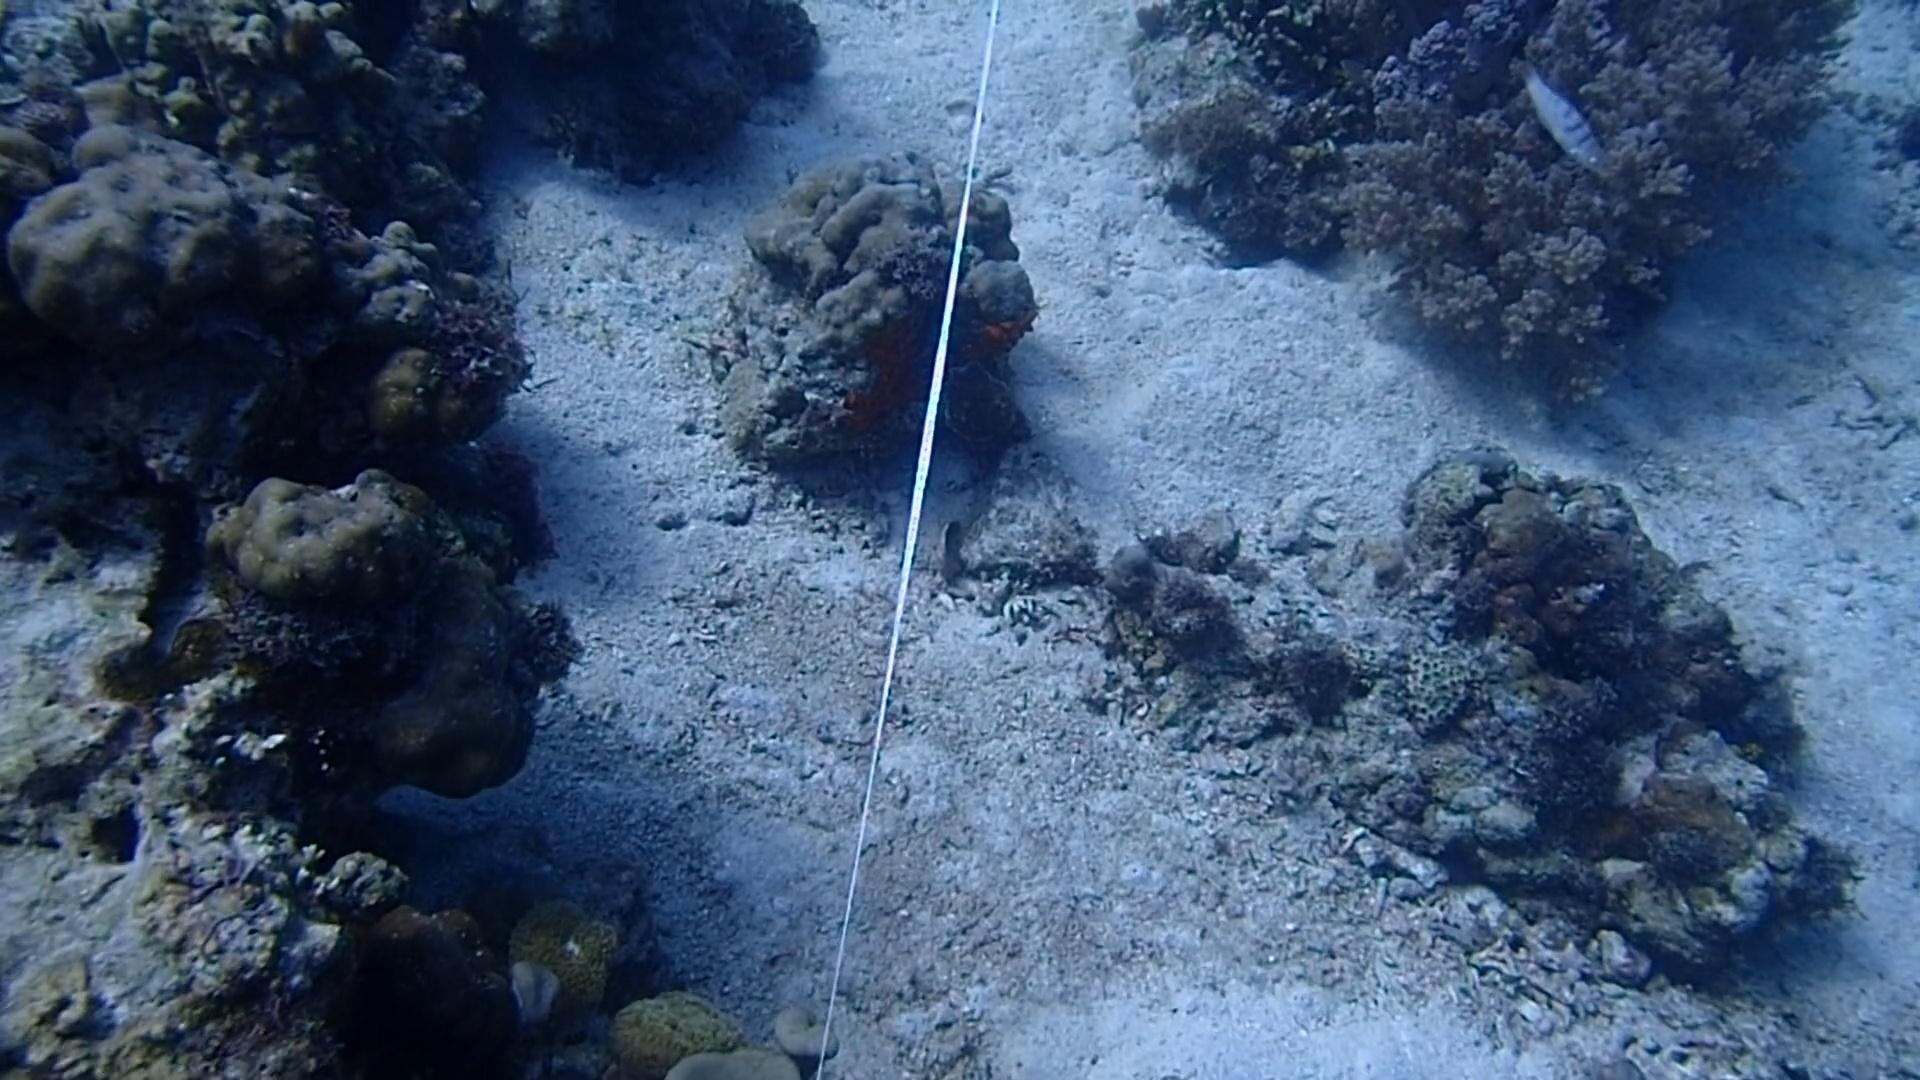Light Fish w Back Stripes: (1509, 51, 1605, 167)
